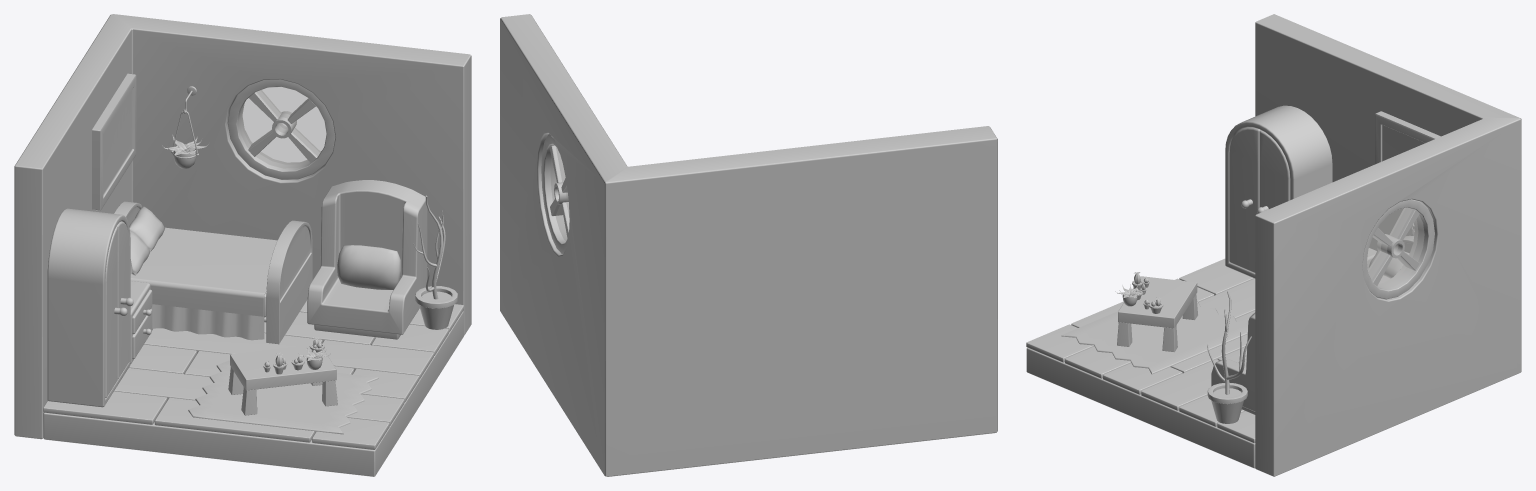
Rendered from Bedroom_6.fbx.
3 views of the same model, side by side, from view 1: azimuth 30°, elevation 25°; view 2: azimuth 150°, elevation 25°; view 3: azimuth 270°, elevation 25° (orthographic). The views are drawn at different scales.
Parts seen in each view (by area): view 1: Room_6_Wall_1, Room_6_Floor_2, Room_6_Bed_1, Room_6_Wardrobe_1, Room_6_Armchair_1, Room_6_Floor_1, Room_6_Window_1, Room_6_Carpet_1, Room_6_Painting_1, Room_6_Table_1, Room_6_Pillow_3, Room_6_Plant_2 (+4 smaller); view 2: Room_6_Wall_1, Room_6_Window_1; view 3: Room_6_Wall_1, Room_6_Floor_2, Room_6_Wardrobe_1, Room_6_Floor_1, Room_6_Carpet_1, Room_6_Window_1, Room_6_Table_1, Room_6_Plant_2, Room_6_Painting_1, Room_6_Armchair_1.
Boxes of the visible parts, x1,y1,x2,y2 form: Room_6_Wall_1: (14,14,471,439); Room_6_Floor_2: (43,300,463,449); Room_6_Bed_1: (114,201,312,344); Room_6_Wardrobe_1: (47,208,133,407); Room_6_Armchair_1: (307,180,427,339); Room_6_Floor_1: (43,311,463,476); Room_6_Window_1: (227,79,335,179); Room_6_Carpet_1: (188,360,378,434); Room_6_Painting_1: (92,73,136,210); Room_6_Table_1: (228,345,337,415); Room_6_Pillow_3: (337,245,400,289); Room_6_Plant_2: (413,195,457,329); Room_6_Wall_1: (500,14,997,476); Room_6_Window_1: (541,134,569,254); Room_6_Wall_1: (1255,14,1521,476); Room_6_Floor_2: (1026,258,1255,443); Room_6_Wardrobe_1: (1225,105,1332,278); Room_6_Floor_1: (1026,347,1255,468); Room_6_Carpet_1: (1061,301,1248,374); Room_6_Window_1: (1362,199,1434,299); Room_6_Table_1: (1117,276,1197,352); Room_6_Plant_2: (1207,291,1251,423); Room_6_Painting_1: (1374,111,1440,164); Room_6_Armchair_1: (1211,312,1255,414).
Bounding box in the file's own units: 704 × 400 × 705.
